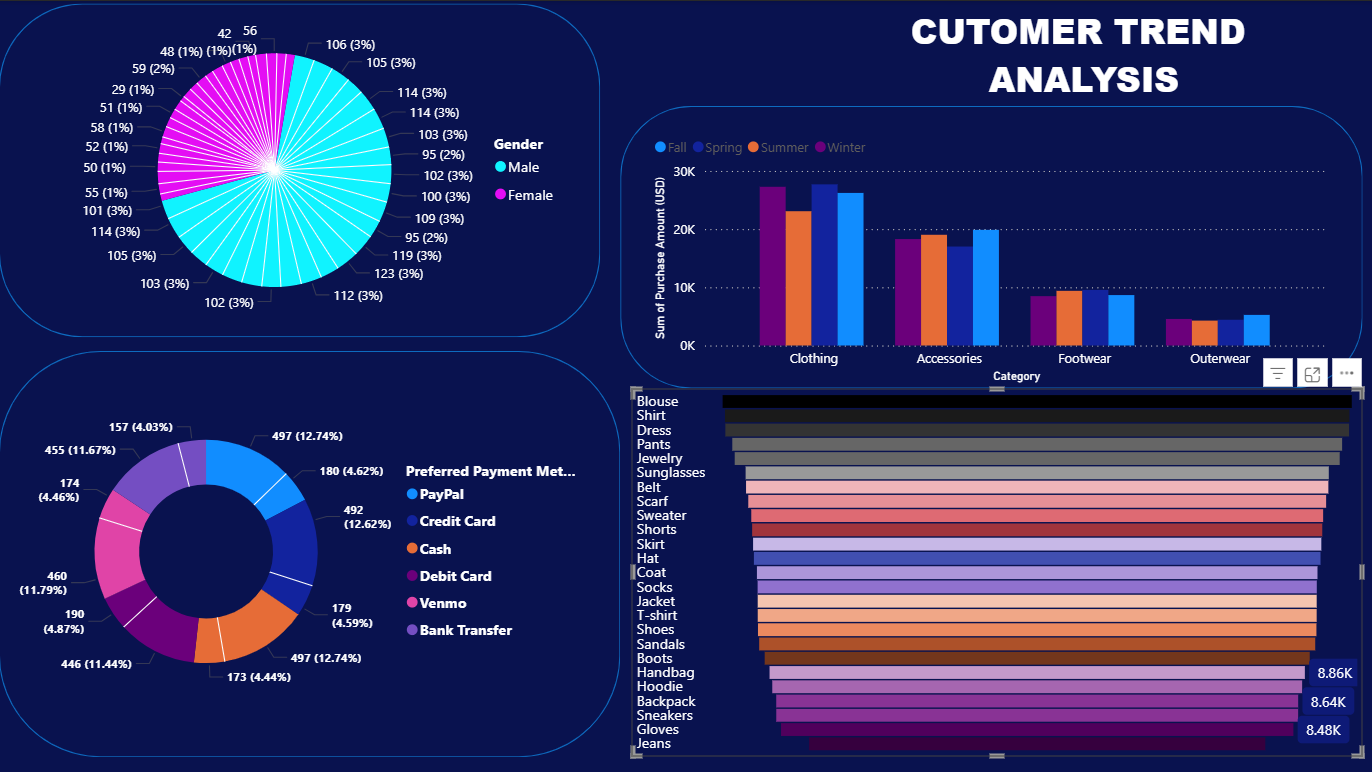

What the dashboard file says about the page in this screenshot:
{"tool":"powerbi","page":{"name":"Page 1","canvas":[1280,720],"ordinal":0},"visuals":[{"type":"shape","box":[577.9,97.7,690.7,262.8],"z":0},{"type":"shape","box":[604.7,383.7,675.6,319.8],"z":1000},{"type":"shape","box":[0,0,577.9,312.8],"z":2000},{"type":"textbox","box":[728,0,552,150],"z":3000},{"type":"pieChart","fields":{"Category":["shopping_trends.Gender"],"Y":["CountNonNull(shopping_trends.Frequency of Purchases)"],"Series":["shopping_trends.Item Purchased"]},"box":[47.7,2.3,483.7,310.5],"z":4000},{"type":"clusteredColumnChart","fields":{"Y":["Sum(shopping_trends.Purchase Amount (USD))"],"Category":["shopping_trends.Category"],"Series":["shopping_trends.Season"]},"box":[604.7,116.3,637.2,244.2],"z":5000},{"type":"funnel","fields":{"Category":["shopping_trends.Item Purchased"],"Y":["Sum(shopping_trends.Purchase Amount (USD))"]},"box":[647.7,402.3,603.5,286],"z":6000},{"type":"shape","box":[0,325.6,577.9,377.9],"z":7000},{"type":"donutChart","fields":{"Category":["shopping_trends.Preferred Payment Method"],"Y":["CountNonNull(shopping_trends.Payment Method)"],"Series":["shopping_trends.Subscription Status"]},"box":[2.3,360.5,575.6,303.5],"z":8000}]}

Visuals, with their boxes in screenshot pixels (x1, y1, x2, y2), scaled from the page's 1280x720 canvas onto the 1372x772 screenshot:
shape: Rect(619, 105, 1360, 387)
shape: Rect(648, 411, 1371, 754)
shape: Rect(0, 0, 619, 335)
textbox: Rect(780, 0, 1371, 161)
pieChart - shopping_trends.Gender x CountNonNull(shopping_trends.Frequency of Purchases): Rect(51, 2, 570, 335)
clusteredColumnChart - Sum(shopping_trends.Purchase Amount (USD)) x shopping_trends.Category: Rect(648, 125, 1331, 387)
funnel - shopping_trends.Item Purchased x Sum(shopping_trends.Purchase Amount (USD)): Rect(694, 431, 1341, 738)
shape: Rect(0, 349, 619, 754)
donutChart - shopping_trends.Preferred Payment Method x CountNonNull(shopping_trends.Payment Method): Rect(2, 387, 619, 712)
